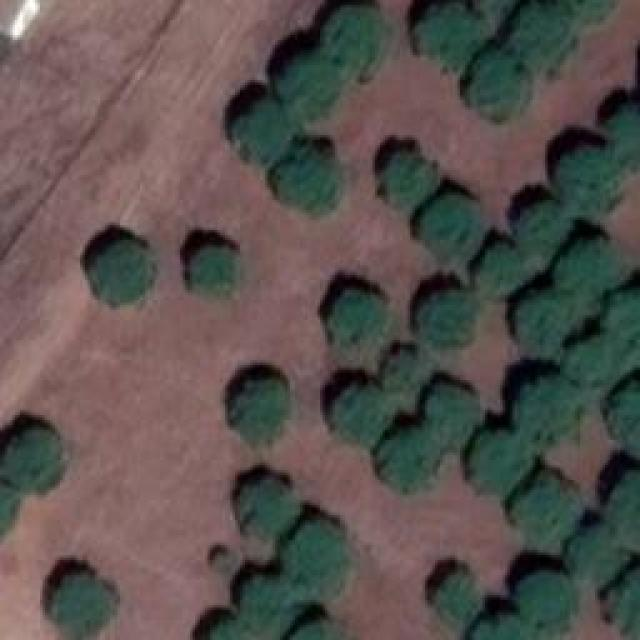Tree: (282, 523, 353, 600), (515, 378, 585, 444), (93, 238, 159, 307), (278, 147, 343, 217), (228, 378, 297, 442), (328, 5, 390, 75), (50, 575, 115, 640), (0, 433, 67, 493), (553, 238, 621, 297), (285, 55, 351, 115), (510, 8, 577, 67), (555, 148, 616, 212), (515, 298, 578, 358), (377, 428, 435, 493), (415, 7, 481, 64), (473, 438, 532, 500), (567, 530, 625, 593), (467, 53, 524, 117), (233, 105, 293, 165), (423, 193, 484, 252), (415, 285, 478, 342), (513, 480, 572, 539), (377, 152, 435, 211), (238, 480, 297, 538), (237, 575, 296, 633), (325, 290, 385, 347), (510, 568, 571, 624), (563, 341, 623, 394), (513, 200, 568, 253), (333, 385, 386, 440), (428, 573, 480, 626), (178, 243, 232, 294), (478, 250, 528, 304), (423, 386, 474, 438), (600, 473, 640, 538), (605, 573, 640, 636), (382, 348, 428, 395), (467, 610, 535, 640), (605, 293, 640, 346), (610, 393, 640, 453), (610, 100, 640, 160), (290, 617, 332, 640), (568, 0, 618, 18), (204, 548, 234, 575), (200, 623, 243, 640)
